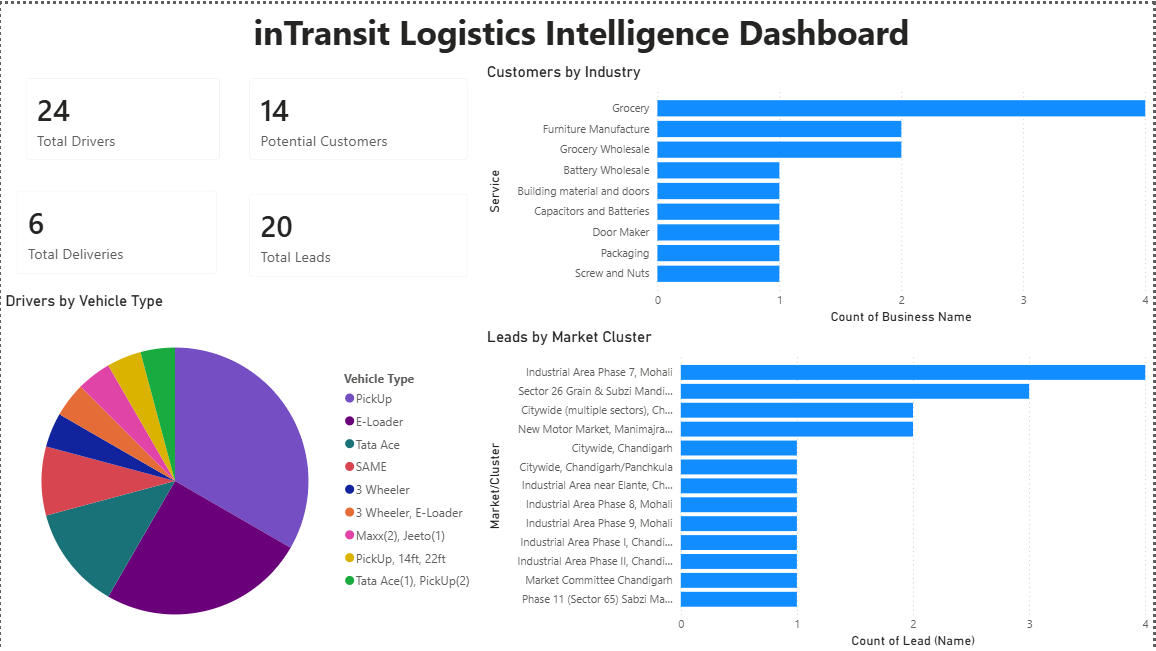

What the dashboard file says about the page in this screenshot:
{"tool":"powerbi","page":{"name":"Executive Overview","canvas":[1280,720],"ordinal":0},"visuals":[{"type":"textbox","box":[9.4,0,1269.9,66.1],"z":0},{"type":"cardVisual","fields":{"Data":["Count(Drivers.S. No. )"]},"box":[10,65.7,250,125.7],"z":1000},{"type":"cardVisual","fields":{"Data":["CountNonNull(Customers.Serial No.)"]},"box":[258.6,65.7,277.1,125.7],"z":2000},{"type":"cardVisual","fields":{"Data":["CountNonNull(Deliveries.Order No)"]},"box":[0,190,257.5,127.5],"z":3000},{"type":"cardVisual","fields":{"Data":["CountNonNull(Leads.Market/Cluster)"]},"box":[257.5,192.5,277.5,127.5],"z":4000},{"type":"pieChart","title":"Drivers by Vehicle Type","fields":{"Category":["Drivers.Vehicle Type"],"Y":["CountNonNull(Drivers.Driver's Name/Fleet Name)"]},"box":[0,320,535,400],"z":5000},{"type":"clusteredBarChart","title":"Customers by Industry","fields":{"Category":["Customers.Service"],"Y":["CountNonNull(Customers.Business Name)"]},"box":[535,65,745,295],"z":6000},{"type":"clusteredBarChart","title":"Leads by Market Cluster","fields":{"Category":["Leads.Market/Cluster"],"Y":["CountNonNull(Leads.Lead (Name))"]},"box":[535,360,745,360],"z":7000}]}

Visuals, with their boxes in screenshot pixels (x1, y1, x2, y2), scaled from the page's 1280x720 canvas onto the 1156x651 screenshot:
textbox: [8, 0, 1155, 60]
cardVisual - Count(Drivers.S. No. ): [9, 59, 235, 173]
cardVisual - CountNonNull(Customers.Serial No.): [234, 59, 484, 173]
cardVisual - CountNonNull(Deliveries.Order No): [0, 172, 233, 287]
cardVisual - CountNonNull(Leads.Market/Cluster): [233, 174, 483, 289]
"Drivers by Vehicle Type" pieChart: [0, 289, 483, 650]
"Customers by Industry" clusteredBarChart: [483, 59, 1155, 326]
"Leads by Market Cluster" clusteredBarChart: [483, 326, 1155, 650]
